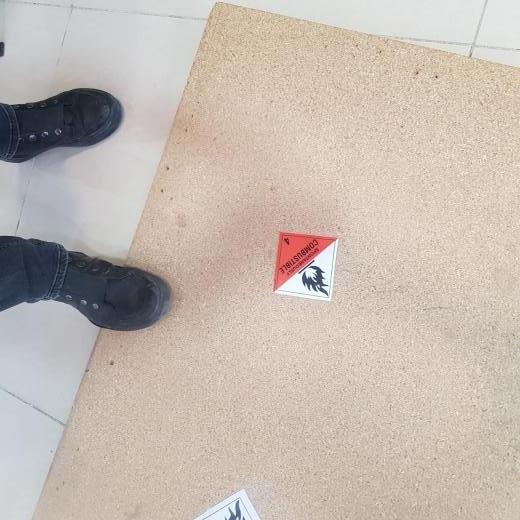spontaneously-combustible: (271, 232, 340, 302)
